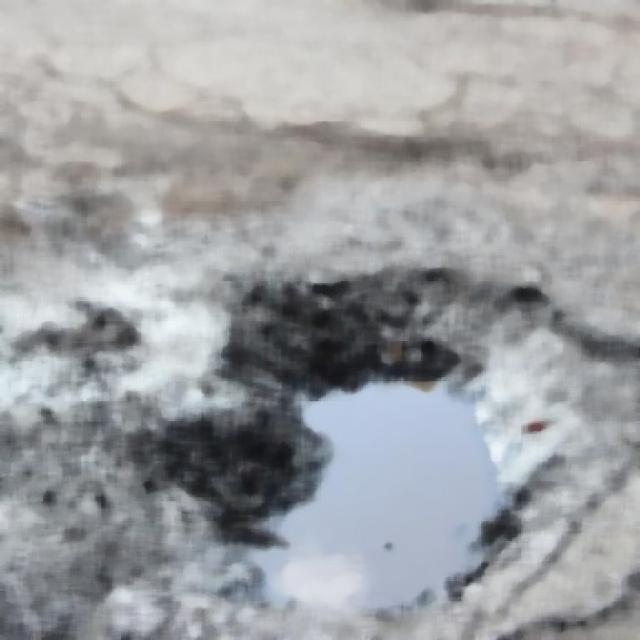Pothole: (287, 348, 508, 607)
